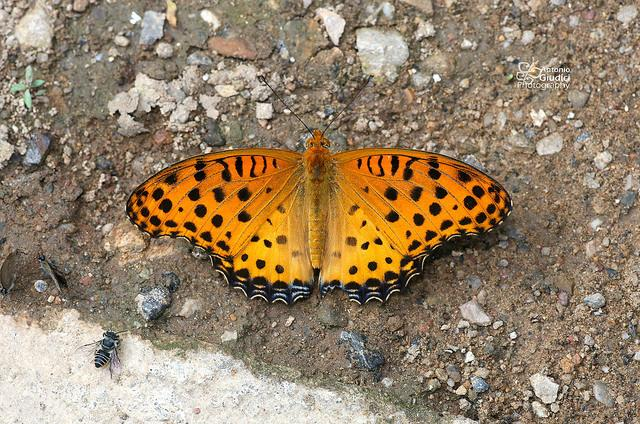Argyreus hyperbius: (120, 69, 517, 304)
butterfly: (122, 71, 519, 306)
